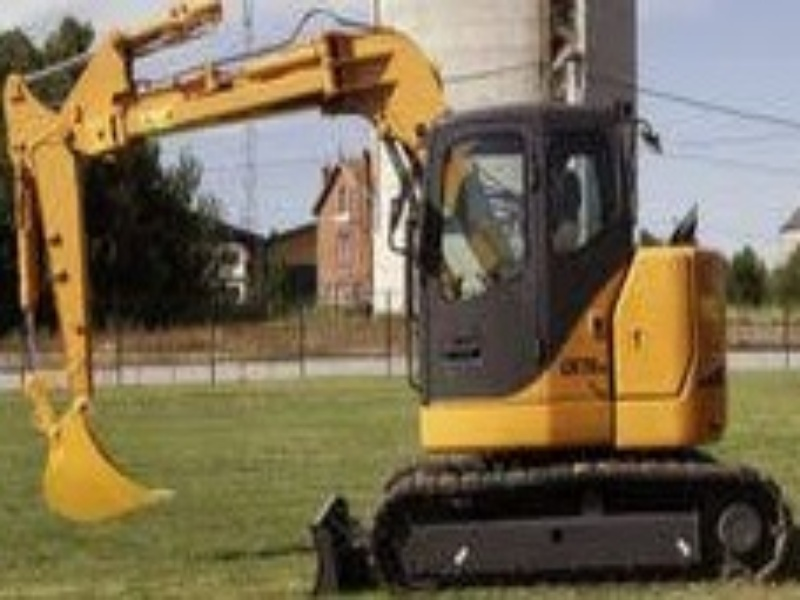wajueji: (301, 21, 800, 595)
